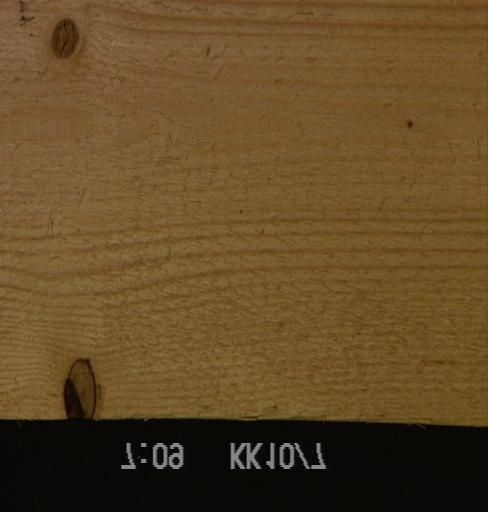small_knot: (365, 115, 425, 175)
sound_knot: (49, 17, 80, 60)
